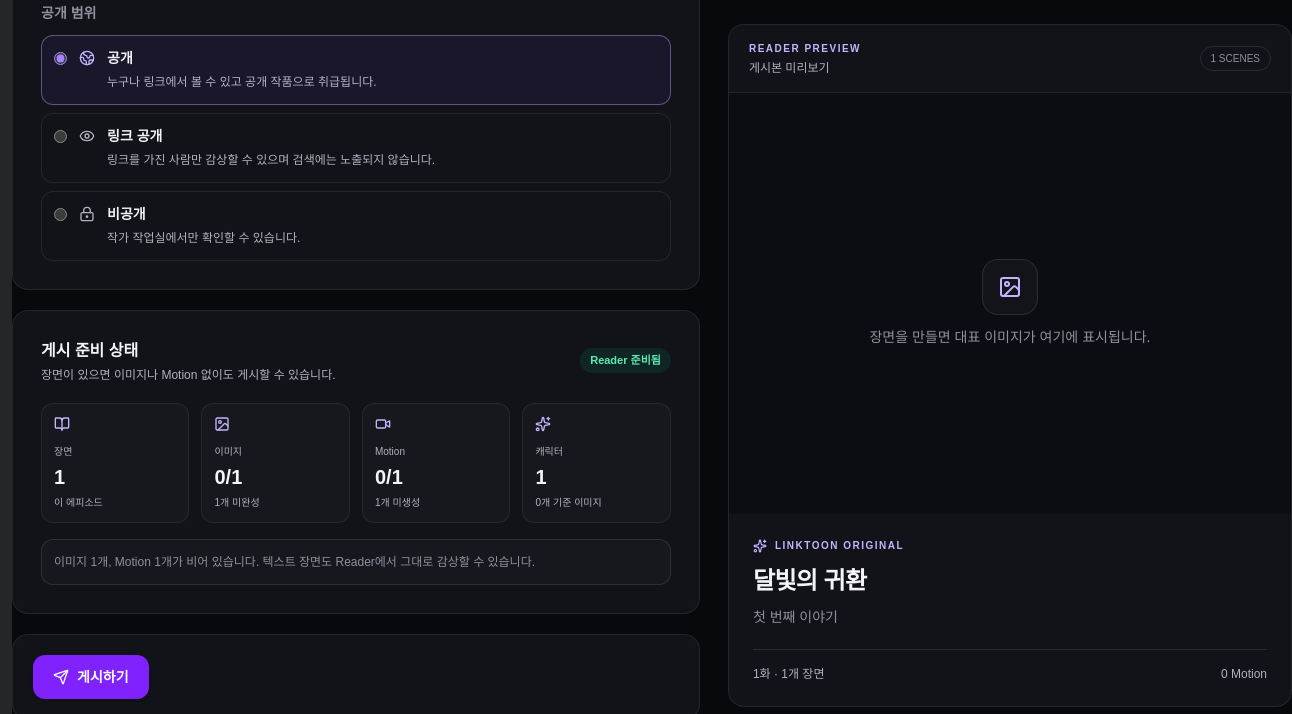
Test: PublicationManager › shows real readiness and creates a shareable publication
The width and height of the screenshot is (1292, 714).
(page scrolled)
Check: the text "Reader 준비됨" is shown, box [580, 348, 671, 373]
Check: the heading "달빛의 귀환" is shown, box [753, 568, 866, 595]
Step 1. Click the button "게시하기" → (91, 677), box [33, 655, 148, 699]
(page scrolled)
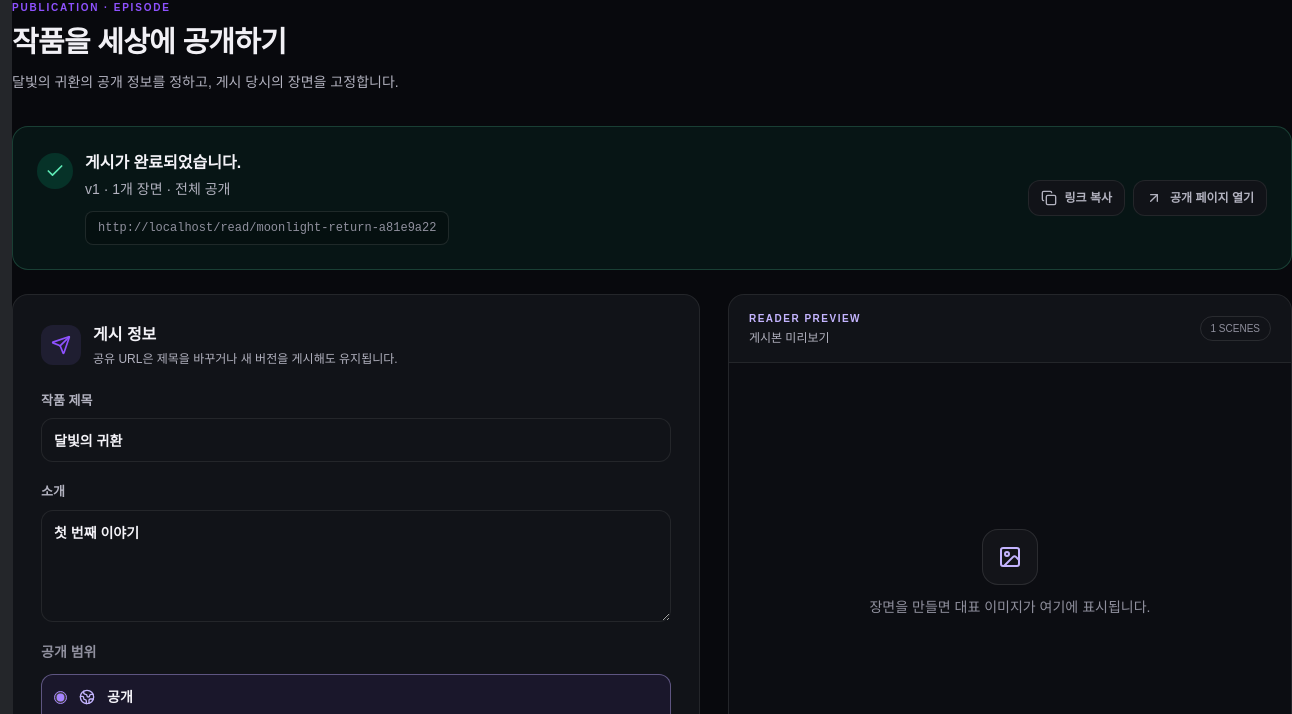
Check: the text "게시가 완료되었습니다." is shown, box [85, 154, 241, 171]
Check: the text "http://localhost/read/moonlight-return-a81e9a22" is shown, box [85, 211, 450, 245]
Check: the link "공개 페이지 열기" is shown, box [1133, 180, 1267, 216]
